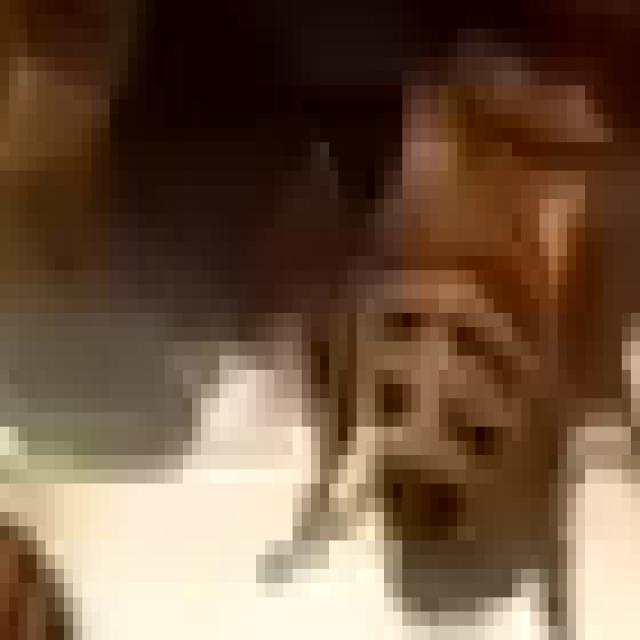honeybee: (329, 0, 631, 583)
